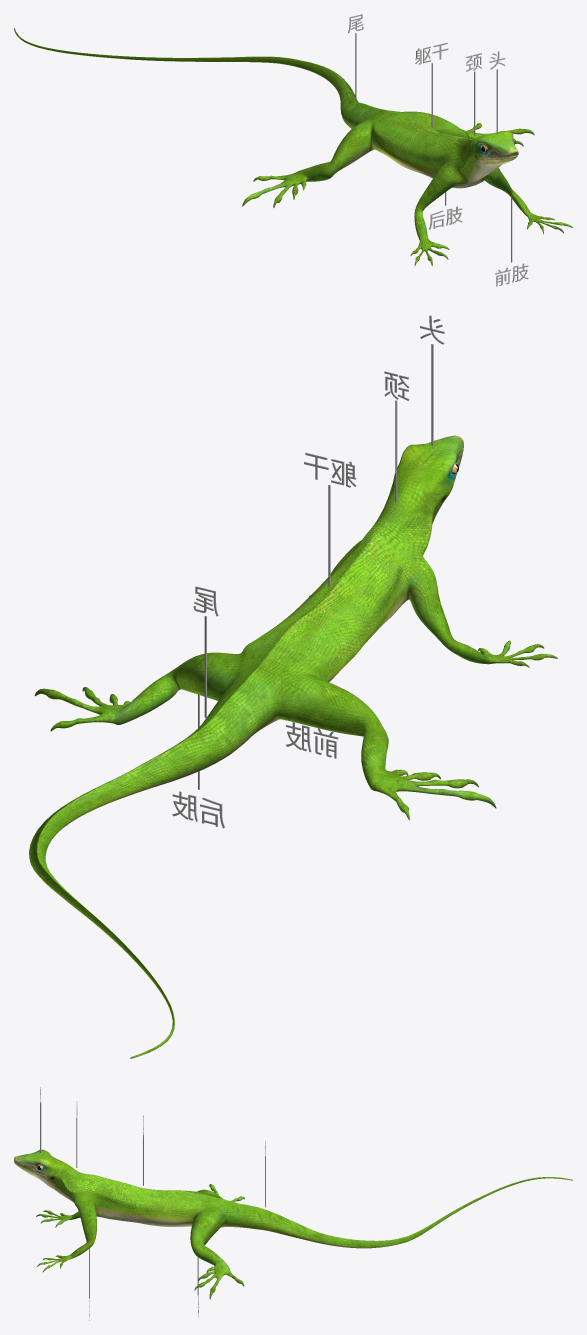
The model's file is xiyi.gltf.
The picture shows the model from 3 angles, top to bottom: view 1: azimuth 30°, elevation 25°; view 2: azimuth 150°, elevation 25°; view 3: azimuth 270°, elevation 25°; orthographic projection. The views are drawn at different scales.
Visible parts, largest first — view 1: zhuti; view 2: zhuti; view 3: zhuti.
Boxes of the visible parts, x1,y1,x2,y2 form: zhuti: (14, 28, 572, 266); zhuti: (29, 435, 557, 1058); zhuti: (14, 1149, 572, 1299).
Size of the model in its own units: 23.17 by 19.74 by 47.81.
Materials: 4 (2 with a texture image).
